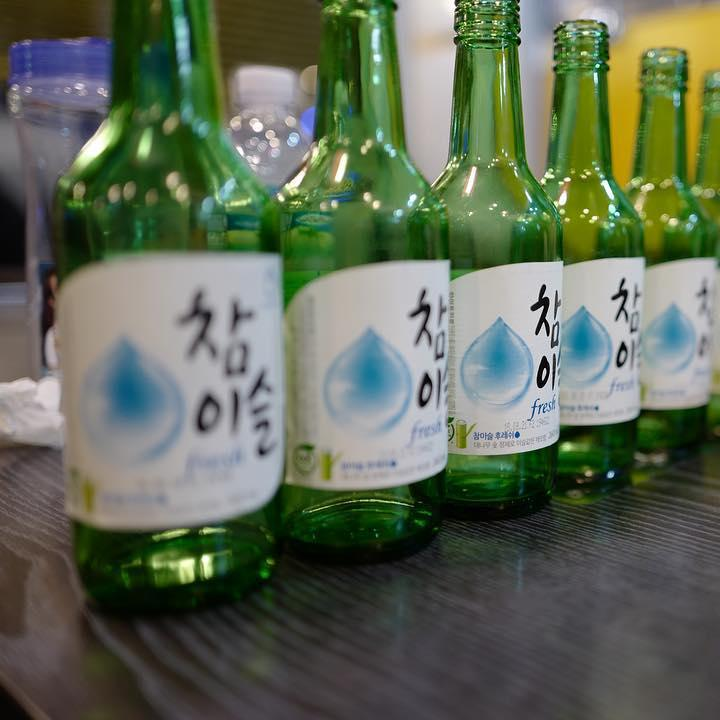soju: (43, 6, 718, 608)
